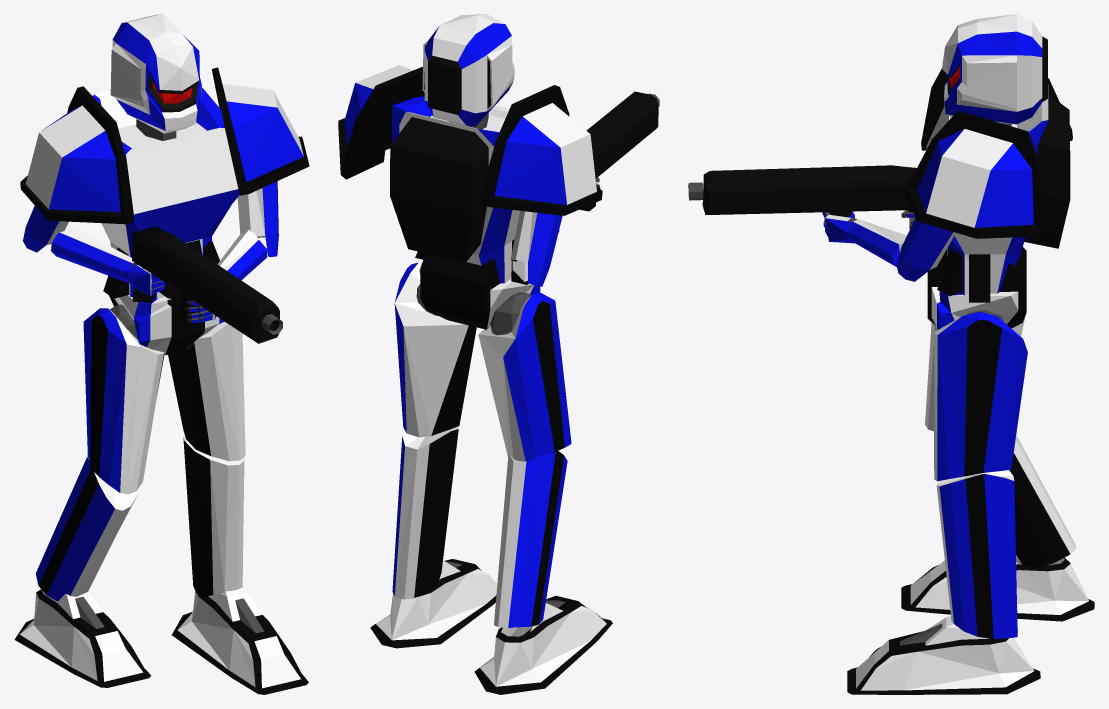
The model's file is robot_animation_000011.obj.
The picture shows the model from 3 angles, left to right: view 1: azimuth 30°, elevation 25°; view 2: azimuth 150°, elevation 25°; view 3: azimuth 270°, elevation 25°; orthographic projection.
Visible parts, largest first — view 1: Chest_plate_Cube.004, R_Thigh_Cube.005, Cube.002_Cube.059, Head_base_Cube.022, R_Foot.002_Cube.035, R_Thigh.002_Cube.027, R_Shin.002_Cube.029, Cube_Cube.001, R_Foot_Cube, R_Shin_Cube.007, Cube_Cube.021, Pelvis_Cube.006 (+5 smaller); view 2: Chest_plate_Cube.004, Cube.002_Cube.059, R_Thigh_Cube.005, R_Shin_Cube.007, R_Thigh.002_Cube.027, R_Shin.002_Cube.029, Head_base_Cube.022, R_Foot_Cube, R_Foot.002_Cube.035, Cube_Cube.021, Pelvis_Cube.006, Cube_Cube.001 (+2 smaller); view 3: Cube_Cube.021, R_Thigh.002_Cube.027, R_Shin.002_Cube.029, R_Foot.002_Cube.035, Head_base_Cube.022, Cube_Cube.001, Chest_plate_Cube.004, R_Foot_Cube, R_Shin_Cube.007, Pelvis_Cube.006, L_Arm_Cube.014, L_Forearm_Cube.020 (+3 smaller).
Boxes of the visible parts, <box> form: Chest_plate_Cube.004: <box>93,88,239,303</box>; R_Thigh_Cube.005: <box>83,308,164,494</box>; Cube.002_Cube.059: <box>20,86,133,224</box>; Head_base_Cube.022: <box>110,14,201,133</box>; R_Foot.002_Cube.035: <box>172,588,308,694</box>; R_Thigh.002_Cube.027: <box>168,321,245,461</box>; R_Shin.002_Cube.029: <box>183,437,244,597</box>; Cube_Cube.001: <box>132,226,282,343</box>; R_Foot_Cube: <box>14,589,150,687</box>; R_Shin_Cube.007: <box>35,456,139,600</box>; Cube_Cube.021: <box>211,67,309,195</box>; Pelvis_Cube.006: <box>109,295,224,355</box>; Chest_plate_Cube.004: <box>390,96,528,284</box>; Cube.002_Cube.059: <box>479,85,602,215</box>; R_Thigh_Cube.005: <box>478,292,571,461</box>; R_Shin_Cube.007: <box>494,451,567,628</box>; R_Thigh.002_Cube.027: <box>394,261,476,437</box>; R_Shin.002_Cube.029: <box>392,426,458,599</box>; Head_base_Cube.022: <box>422,14,514,126</box>; R_Foot_Cube: <box>474,596,612,694</box>; R_Foot.002_Cube.035: <box>370,559,497,648</box>; Cube_Cube.021: <box>338,65,424,179</box>; Pelvis_Cube.006: <box>419,253,540,329</box>; Cube_Cube.001: <box>580,91,659,211</box>; Cube_Cube.021: <box>905,110,1047,238</box>; R_Thigh.002_Cube.027: <box>933,311,1027,481</box>; R_Shin.002_Cube.029: <box>936,470,1017,638</box>; R_Foot.002_Cube.035: <box>847,616,1040,694</box>; Head_base_Cube.022: <box>942,14,1047,124</box>; Cube_Cube.001: <box>688,165,916,218</box>; Chest_plate_Cube.004: <box>926,85,1070,302</box>; R_Foot_Cube: <box>901,557,1094,621</box>; R_Shin_Cube.007: <box>1009,435,1075,567</box>; Pelvis_Cube.006: <box>927,247,1026,329</box>; L_Arm_Cube.014: <box>897,218,955,281</box>; L_Forearm_Cube.020: <box>848,219,906,266</box>.
Bounding box in the file's own units: 1.32 × 3.05 × 1.78.
